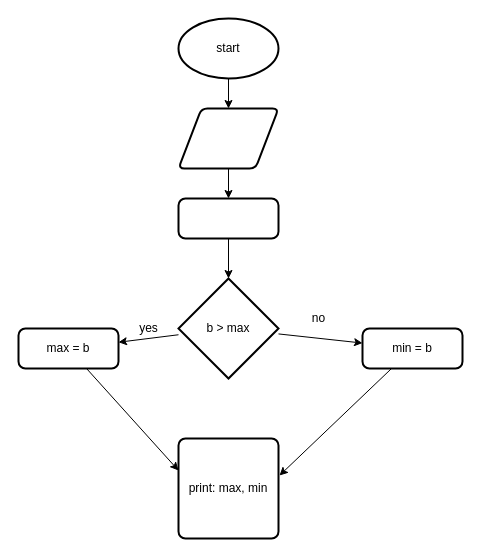
This 480x556 diagram has some shape labels left out. Here are the shapes that lost their labels. From the top down, the centre of each, then its label:
At point (228, 138): "numA numB".
At point (228, 218): "min = a max = a".
